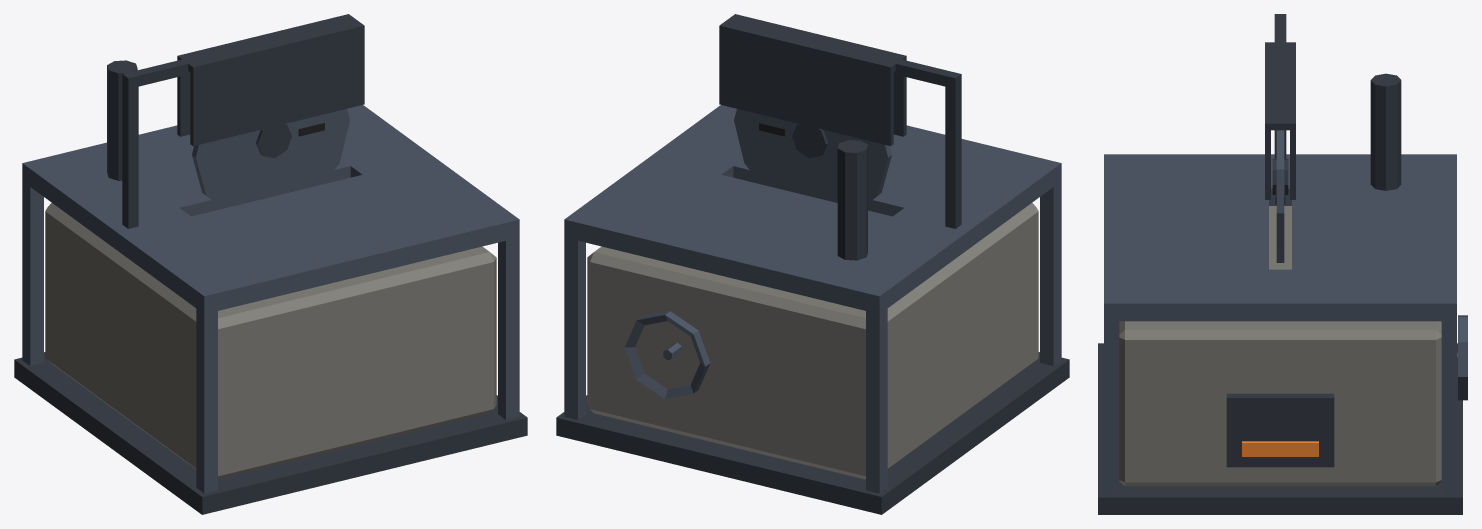
The model's file is stone_cutter.obj.
The picture shows the model from 3 angles, left to right: view 1: azimuth 30°, elevation 25°; view 2: azimuth 150°, elevation 25°; view 3: azimuth 270°, elevation 25°; orthographic projection. The views are drawn at different scales.
Parts seen in each view (by area): view 1: body, part; view 2: body, part; view 3: body, part.
Part boxes in pixels (<box>): body: <box>14,14,527,514</box>; part: <box>192,109,349,208</box>; body: <box>556,14,1069,514</box>; part: <box>734,109,891,203</box>; body: <box>1098,14,1467,514</box>; part: <box>1272,130,1288,262</box>.
Bounding box in the file's own units: 1.9 × 2.04 × 1.93.
